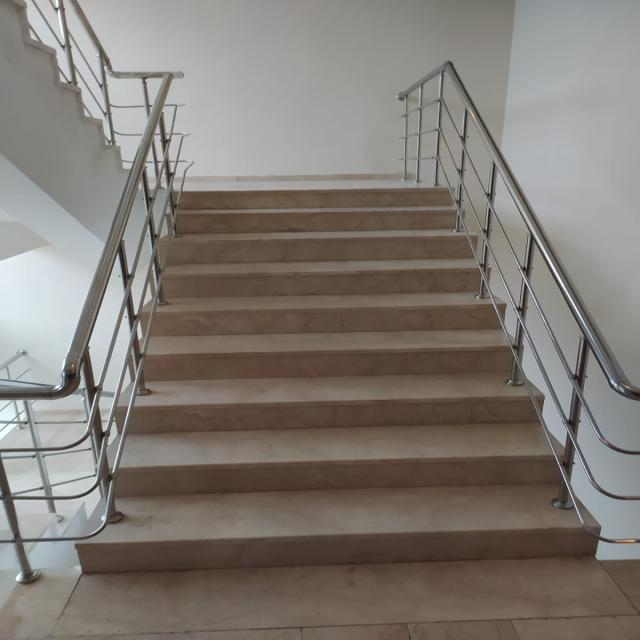upstair: (114, 192, 607, 564)
